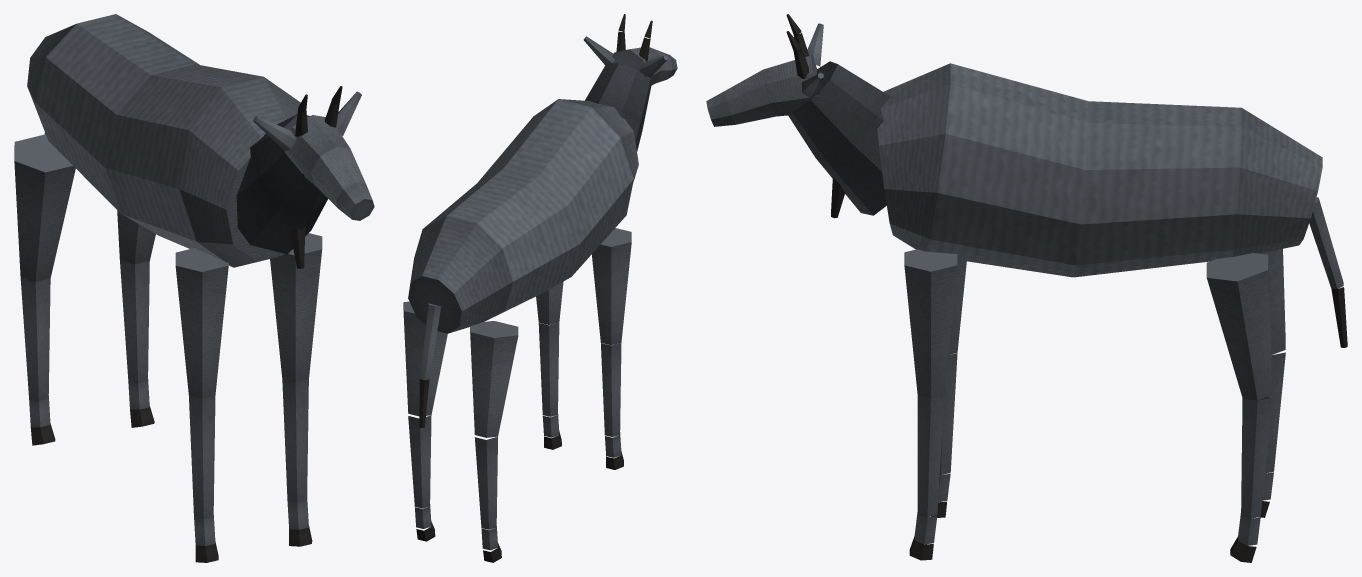
Rendered from nilgai.glb.
3 views of the same model, side by side, from view 1: azimuth 30°, elevation 25°; view 2: azimuth 150°, elevation 25°; view 3: azimuth 270°, elevation 25° (orthographic). The views are drawn at different scales.
Parts seen in each view (by area): view 1: nilgai; view 2: nilgai; view 3: nilgai.
Boxes of the visible parts, x1=… form: nilgai: x1=14, y1=14, x2=374, y2=562; nilgai: x1=403, y1=14, x2=677, y2=562; nilgai: x1=706, y1=14, x2=1347, y2=562.
Bounding box in the file's own units: 0.536 × 1.7 × 1.92.
Materials: 1 (1 with a texture image).
